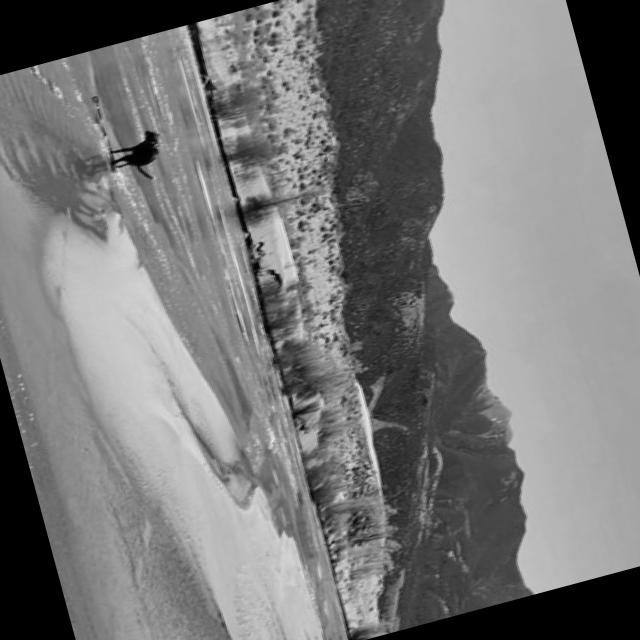squatting: (99, 125, 176, 192)
